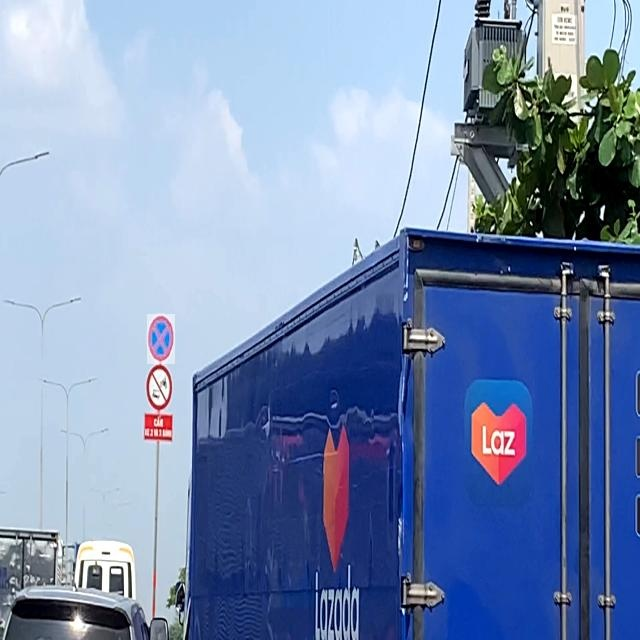bien_cam: (147, 314, 175, 364)
